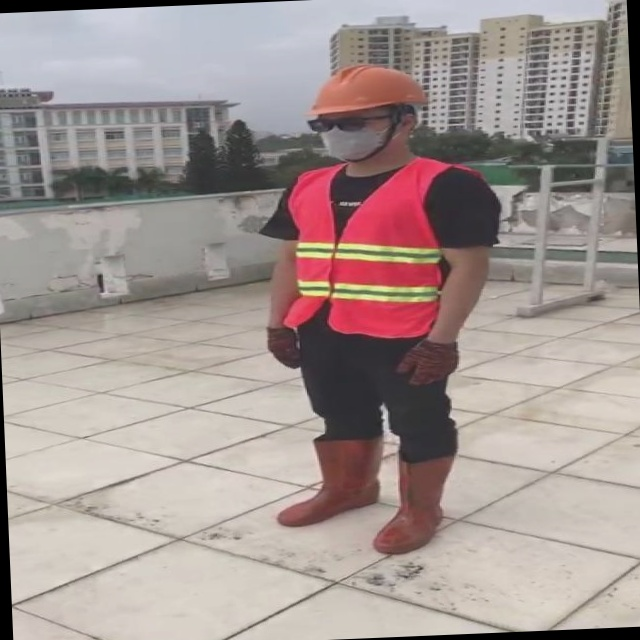boots: (270, 438, 379, 527), (361, 462, 446, 558)
gloves: (399, 325, 467, 401), (256, 312, 304, 368)
helmet: (315, 64, 439, 119)
vest: (286, 164, 452, 340)
